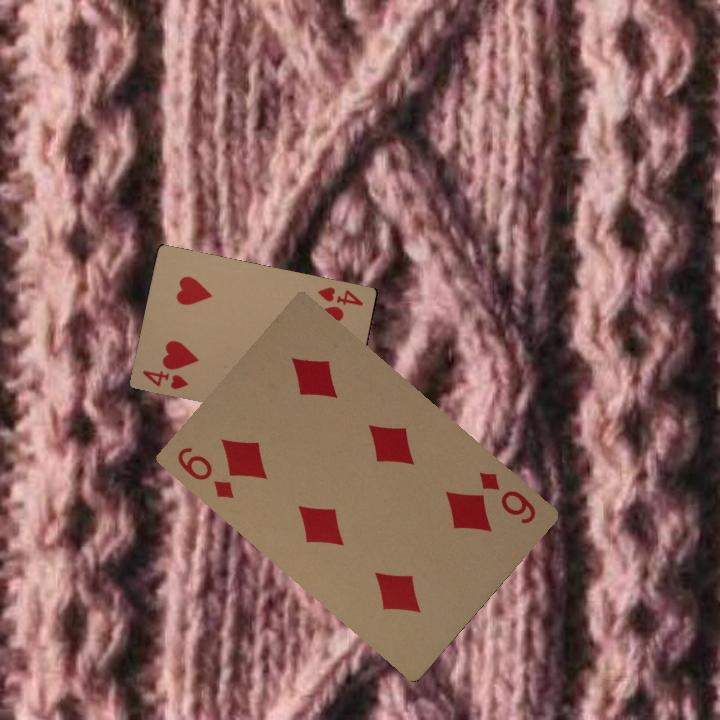4h: (138, 366, 192, 392), (314, 283, 366, 308)
6d: (474, 467, 539, 527), (173, 443, 237, 502)
